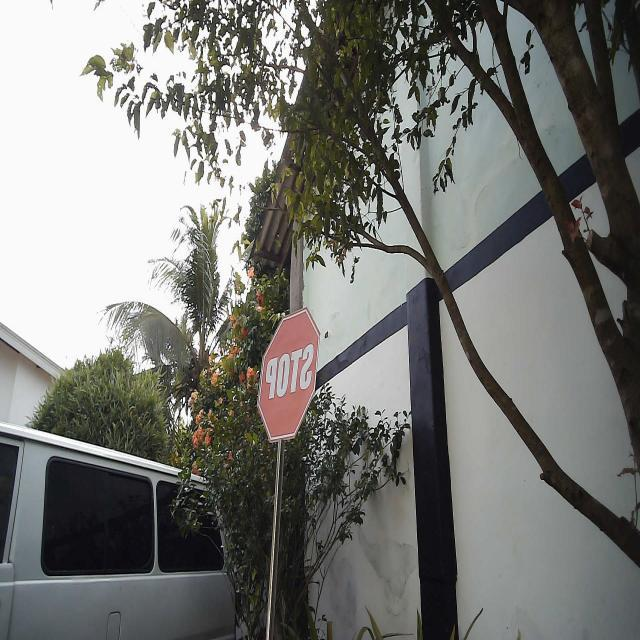stop: (255, 303, 322, 446)
